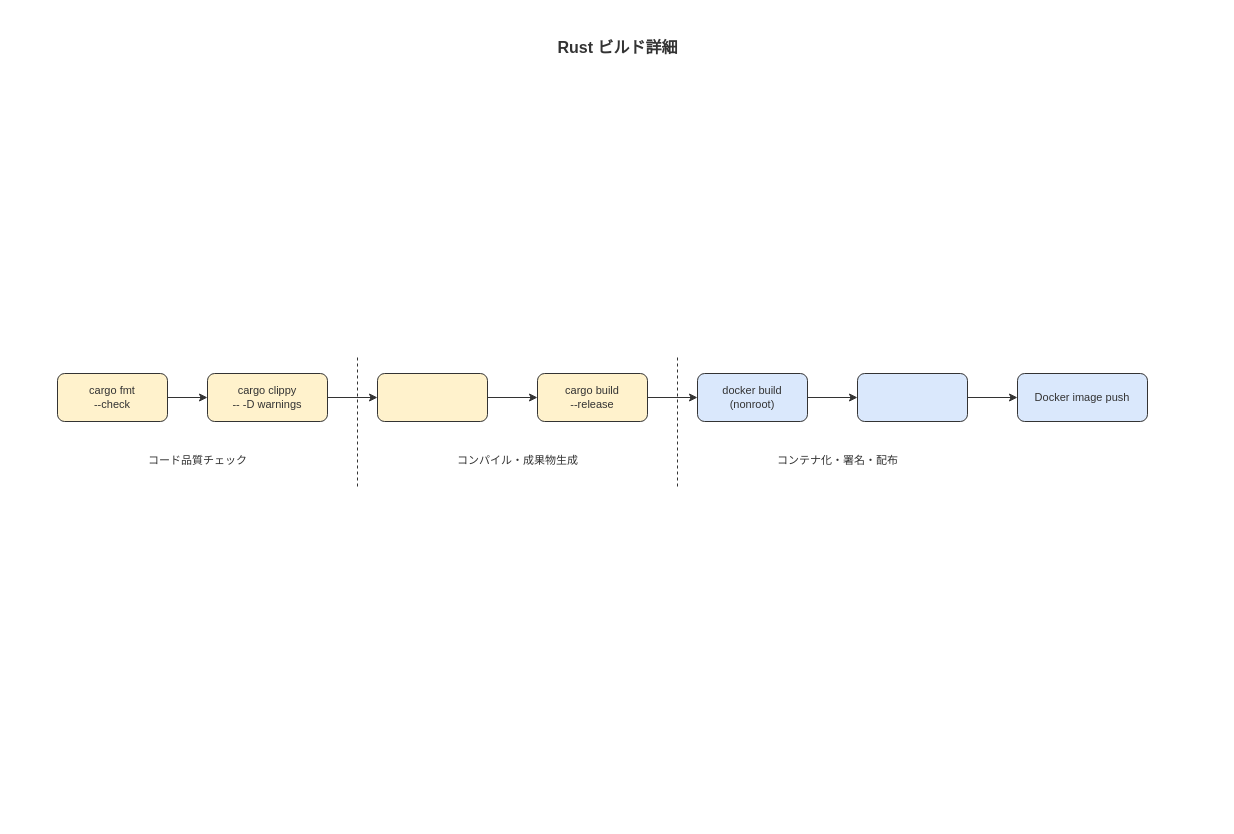
Image size: 1234x834. Some labels were removed from this diagram. Each missing label, with the centre of its shape:
"cosign sign" belongs at [912,397].
"sqlx prepare (offline)" belongs at [432,397].
